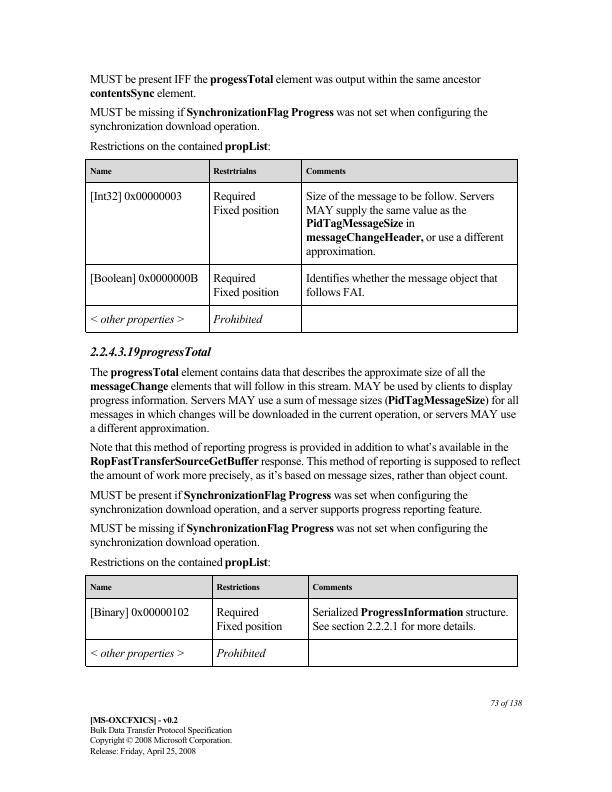table: (85, 157, 523, 336), (83, 574, 522, 672)
text: (86, 363, 522, 434), (88, 441, 522, 483), (87, 70, 481, 100), (86, 521, 487, 549), (87, 105, 492, 132), (87, 488, 482, 515), (86, 712, 234, 758), (88, 140, 273, 155), (86, 554, 271, 569), (88, 345, 216, 358), (487, 696, 523, 710)
